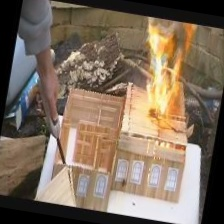fire: (131, 16, 200, 128)
